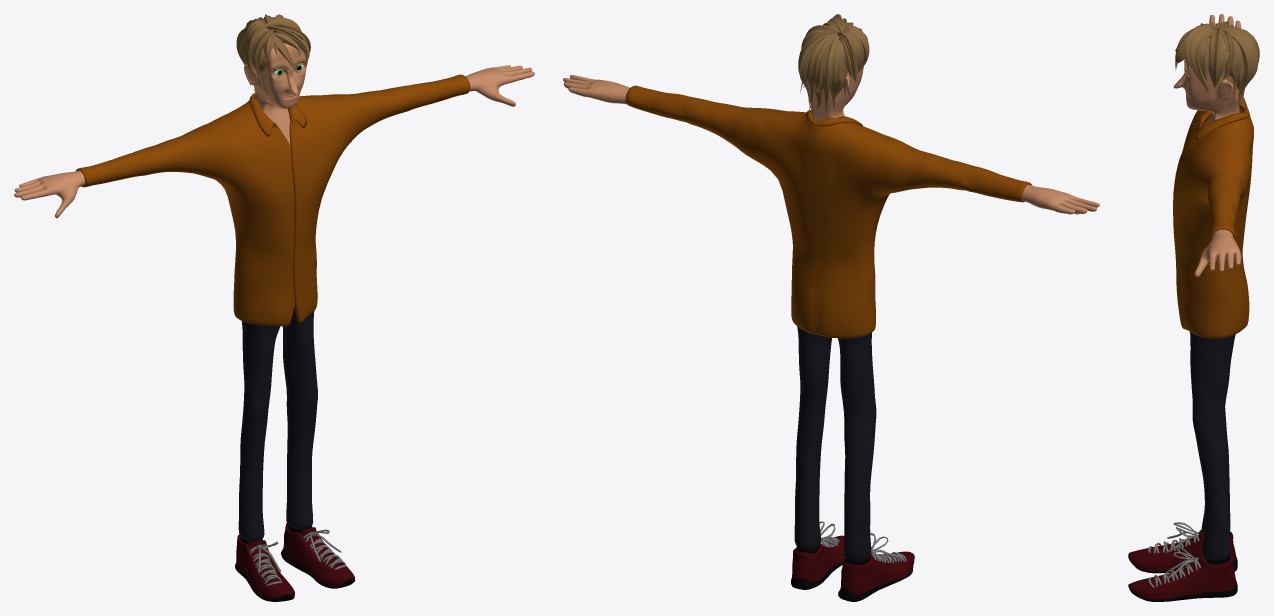
File: Agent Ivan.fbx
The picture shows the model from 3 angles, left to right: view 1: azimuth 30°, elevation 25°; view 2: azimuth 150°, elevation 25°; view 3: azimuth 270°, elevation 25°; orthographic projection. The views are drawn at different scales.
Parts seen in each view (by area): view 1: Shirt, Pants, Body, Shoes, Laces; view 2: Shirt, Pants, Shoes, Body, Hair Strand Sample.073, Laces, Hair Strand Sample.070; view 3: Shirt, Pants, Shoes, Body, Laces, Hair Strand Sample.076, Hair Strand Sample.063, Hair Strand Sample.067, Hair Strand Sample.078, Hair Strand Sample.074, Hair Strand Sample.064, Hair Strand Sample.062 (+1 smaller).
Boxes of the visible parts, box(x1,y1,x2,y2) form: Shirt: box(76, 74, 470, 326); Pants: box(238, 305, 317, 540); Body: box(14, 43, 534, 543); Shoes: box(235, 523, 355, 601); Laces: box(249, 529, 346, 586); Shirt: box(625, 85, 1032, 338); Pants: box(794, 326, 876, 560); Shoes: box(791, 535, 914, 601); Body: box(563, 66, 1099, 565); Hair Strand Sample.073: box(808, 33, 837, 110); Laces: box(819, 521, 906, 563); Hair Strand Sample.070: box(827, 36, 843, 111); Shirt: box(1173, 97, 1253, 338); Pants: box(1190, 332, 1235, 559); Shoes: box(1128, 529, 1237, 601); Body: box(1173, 14, 1241, 564); Laces: box(1148, 522, 1200, 587); Hair Strand Sample.076: box(1217, 27, 1258, 108); Hair Strand Sample.063: box(1184, 25, 1213, 93); Hair Strand Sample.067: box(1208, 27, 1229, 87); Hair Strand Sample.078: box(1220, 32, 1234, 81); Hair Strand Sample.074: box(1229, 39, 1242, 104); Hair Strand Sample.064: box(1198, 37, 1209, 80); Hair Strand Sample.062: box(1175, 23, 1216, 63).
Bounding box in the file's own units: 165 × 167 × 35.74.
